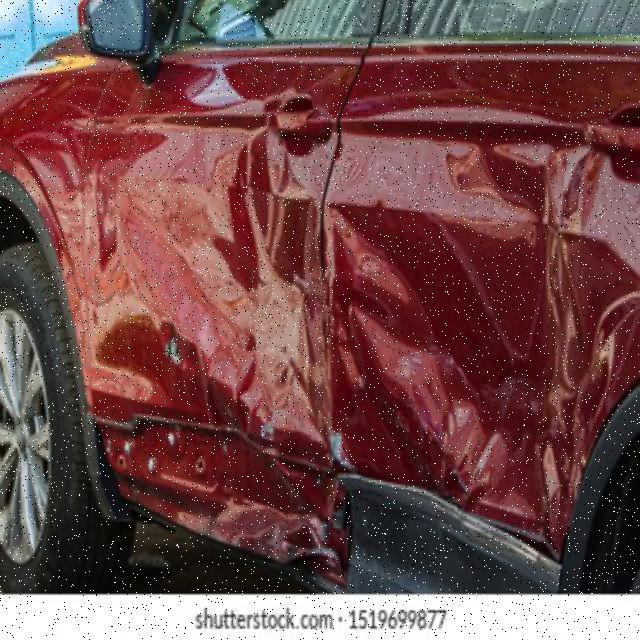doorouter-dent: (344, 43, 638, 484), (72, 44, 345, 474)
